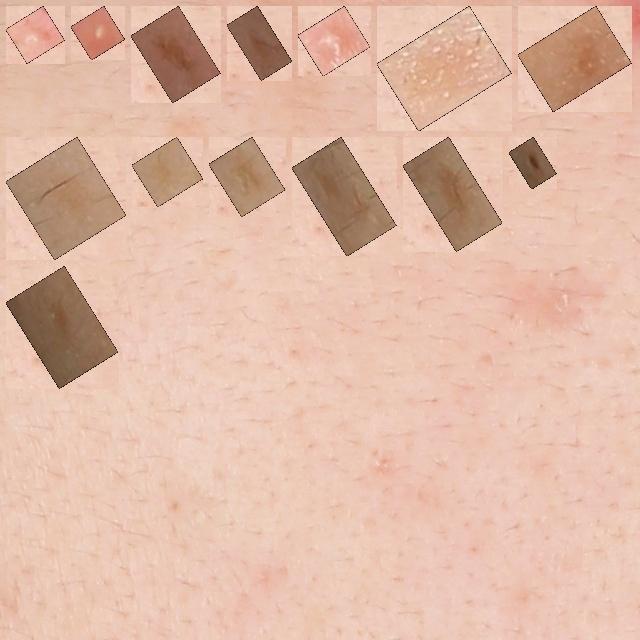melasma: (388, 17, 500, 120), (17, 148, 115, 249), (17, 277, 107, 377), (303, 148, 385, 245), (529, 17, 621, 101), (414, 148, 491, 240), (220, 148, 274, 206), (143, 148, 192, 196), (238, 17, 281, 69)
nevus: (142, 17, 209, 92), (520, 148, 545, 178)
pustule: (309, 17, 359, 65), (82, 17, 114, 49)
